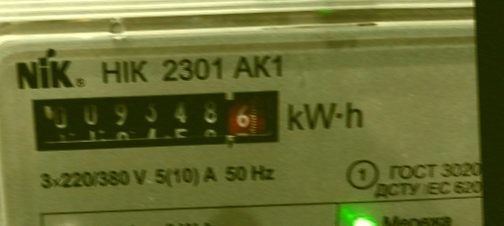0: (51, 105, 68, 132), (82, 101, 97, 127)
3: (143, 99, 158, 125)
4: (170, 96, 189, 127)
6: (233, 102, 251, 131)
8: (202, 98, 218, 127)
9: (113, 103, 128, 130)
screen: (13, 76, 294, 165)
